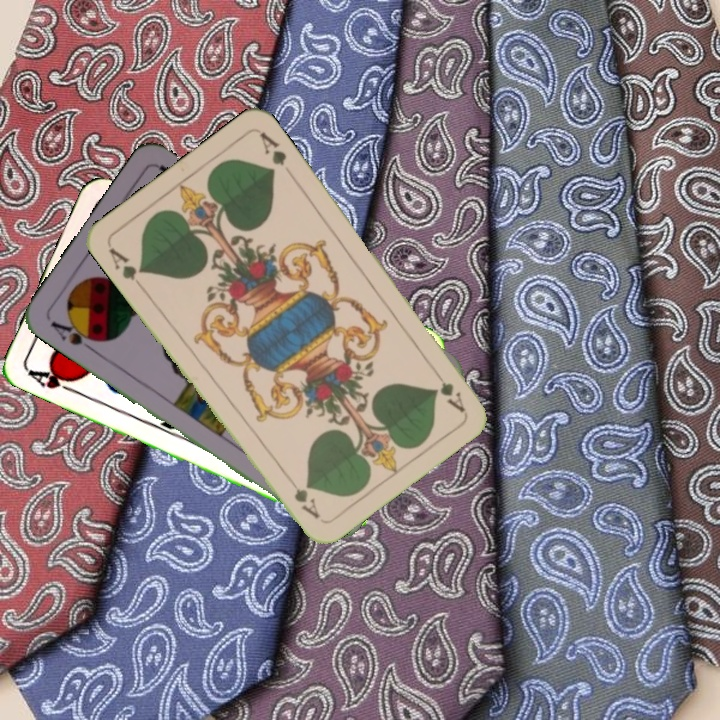GA: (104, 243, 147, 292), (429, 363, 468, 415)
HA: (24, 363, 81, 396)
SA: (46, 315, 103, 355)
